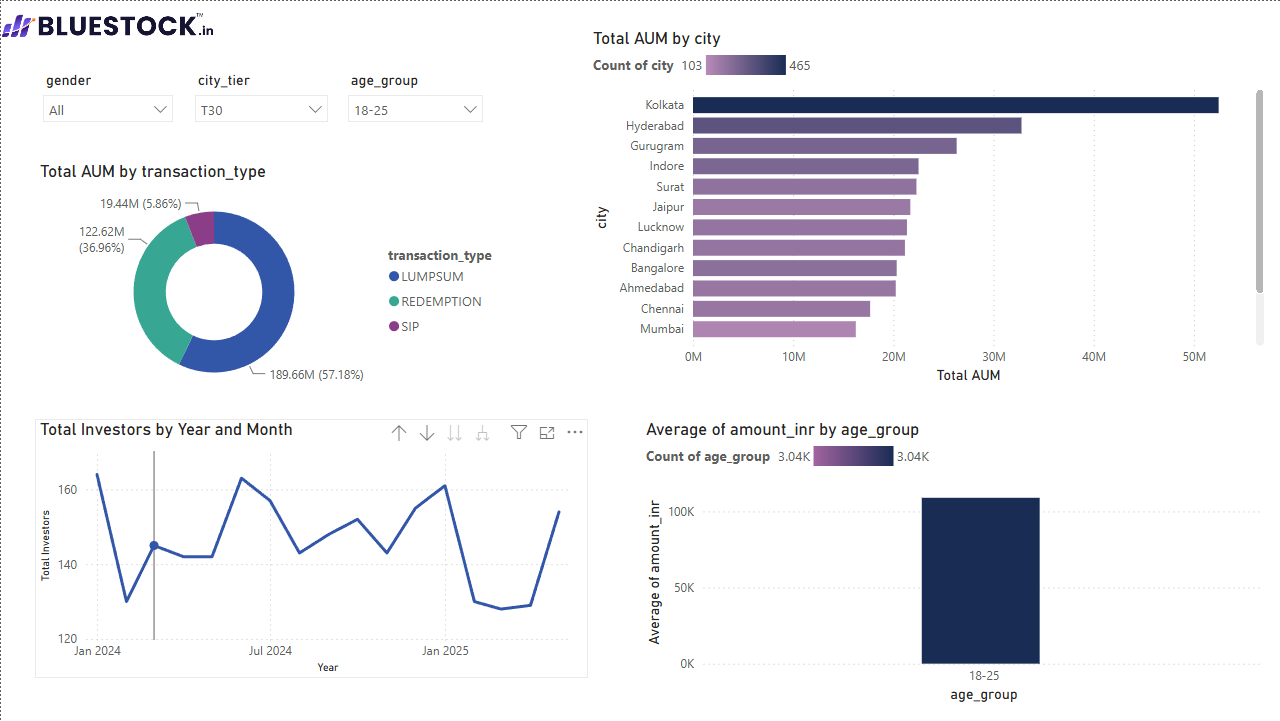

What the dashboard file says about the page in this screenshot:
{"tool":"powerbi","page":{"name":"Investor Analytics","canvas":[1280,720],"ordinal":2},"visuals":[{"type":"clusteredBarChart","fields":{"Category":["fact_transactions.city"],"Y":["fact_transactions.Total AUM"]},"box":[586.5,27.2,681.8,359.9],"z":0},{"type":"donutChart","fields":{"Category":["fact_transactions.transaction_type"],"Y":["fact_transactions.Total AUM"]},"box":[34,159.5,476.6,243.2],"z":1},{"type":"clusteredColumnChart","fields":{"Category":["fact_transactions.age_group"],"Y":["Avg(fact_transactions.amount_inr)"]},"box":[640,418.2,628.3,287.9],"z":2},{"type":"lineChart","fields":{"Category":["fact_transactions.transaction_date.Variation.Date Hierarchy.Year","fact_transactions.transaction_date.Variation.Date Hierarchy.Month"],"Y":["fact_transactions.Total Investors"]},"box":[34,418.2,552.5,258.7],"z":3},{"type":"slicer","fields":{"Values":["fact_transactions.age_group"]},"box":[336.5,66.1,155.6,77.8],"z":4},{"type":"slicer","fields":{"Values":["fact_transactions.city_tier"]},"box":[183.8,66.1,152.7,77.8],"z":5},{"type":"slicer","fields":{"Values":["fact_transactions.gender"]},"box":[32.1,66.1,149.8,77.8],"z":6},{"type":"image","box":[0,0,214,47.7],"z":7}]}

Visuals, with their boxes in screenshot pixels (x1, y1, x2, y2), scaled from the page's 1280x720 canvas onto the 1280x721 screenshot:
clusteredBarChart - fact_transactions.city x fact_transactions.Total AUM: Rect(586, 27, 1268, 388)
donutChart - fact_transactions.transaction_type x fact_transactions.Total AUM: Rect(34, 160, 511, 403)
clusteredColumnChart - fact_transactions.age_group x Avg(fact_transactions.amount_inr): Rect(640, 419, 1268, 707)
lineChart - fact_transactions.transaction_date.Variation.Date Hierarchy.Year x fact_transactions.transaction_date.Variation.Date Hierarchy.Month: Rect(34, 419, 586, 678)
slicer - fact_transactions.age_group: Rect(336, 66, 492, 144)
slicer - fact_transactions.city_tier: Rect(184, 66, 336, 144)
slicer - fact_transactions.gender: Rect(32, 66, 182, 144)
image: Rect(0, 0, 214, 48)
